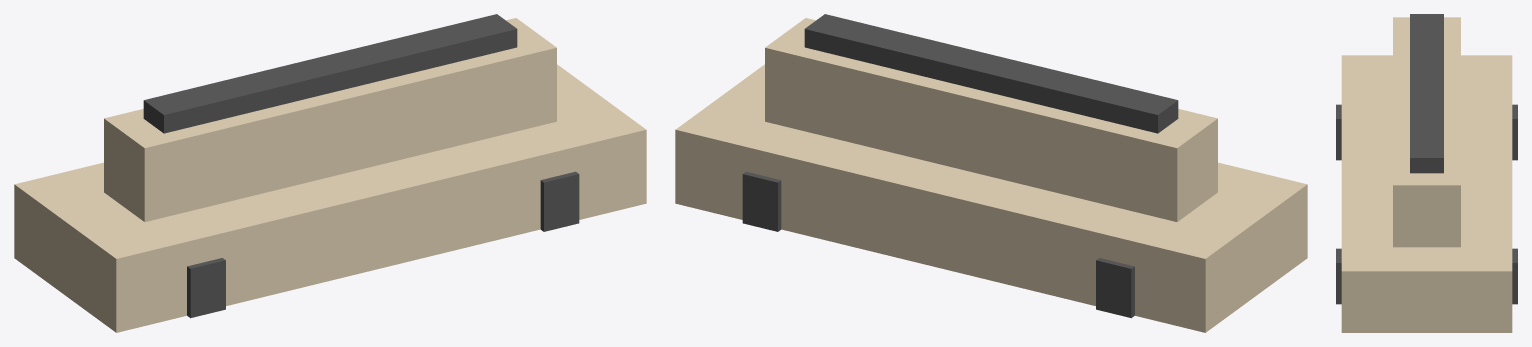
The model's file is prop-bridge-blank-sg1.fbx.
The picture shows the model from 3 angles, left to right: view 1: azimuth 30°, elevation 25°; view 2: azimuth 150°, elevation 25°; view 3: azimuth 270°, elevation 25°; orthographic projection. The views are drawn at different scales.
Parts seen in each view (by area): view 1: prop-bridge-blank-sg1; view 2: prop-bridge-blank-sg1; view 3: prop-bridge-blank-sg1.
Boxes of the visible parts, left/top/right/bottom form: prop-bridge-blank-sg1: left=14, top=14, right=646, bottom=332; prop-bridge-blank-sg1: left=675, top=14, right=1307, bottom=332; prop-bridge-blank-sg1: left=1336, top=14, right=1517, bottom=332.
Bounding box in the file's own units: 9 × 2.7 × 3.2.
